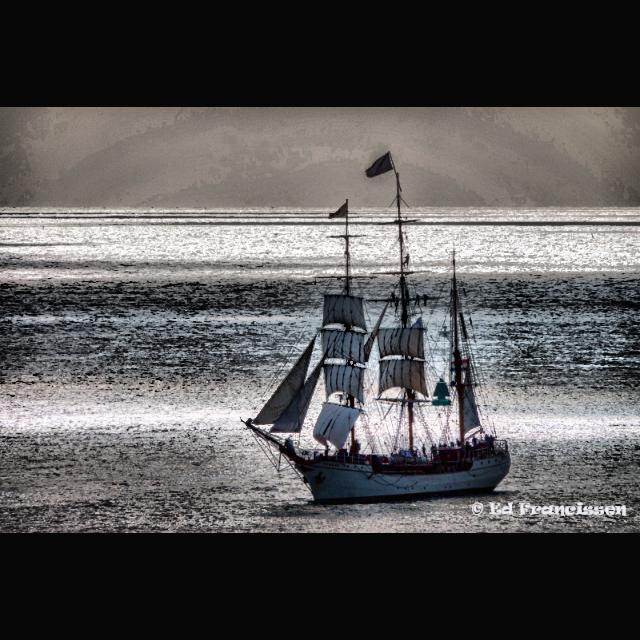sailing_vessel: (240, 151, 512, 505)
